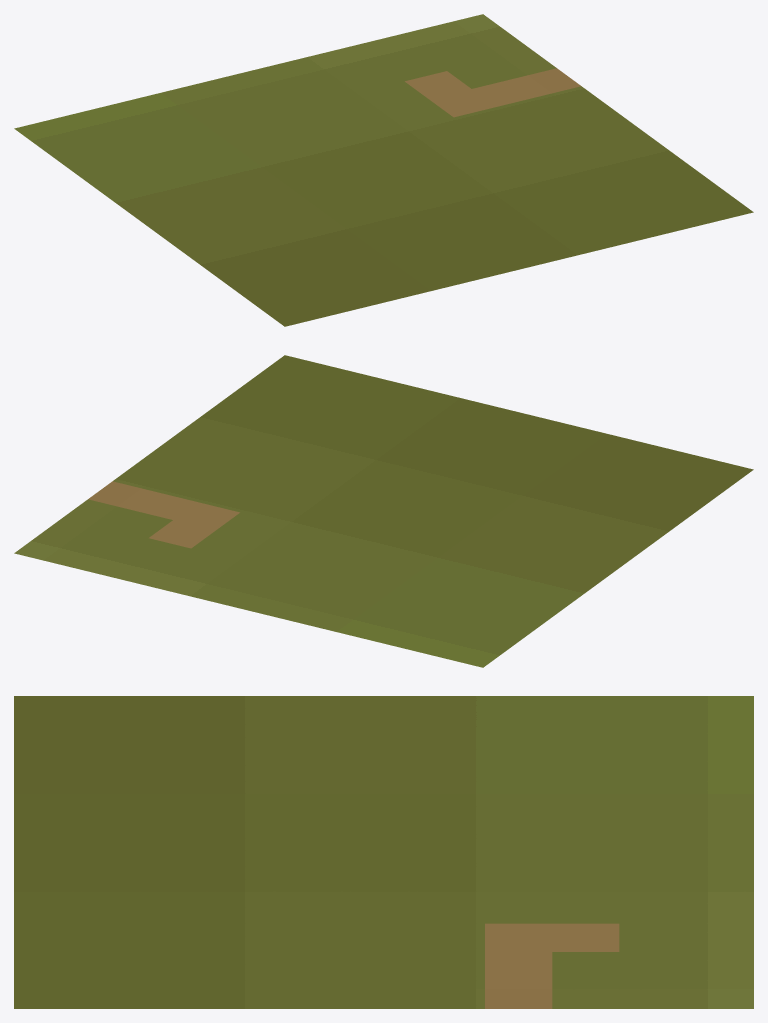
The model's file is PlaceholderFarm.fbx.
3 views of the same model, one above another, from view 1: azimuth 30°, elevation 25°; view 2: azimuth 150°, elevation 25°; view 3: azimuth 270°, elevation 25° (orthographic). The views are drawn at different scales.
Visible parts, largest first — view 1: Plane.002; view 2: Plane.002; view 3: Plane.002.
Part boxes in pixels (x1,y1,x2,y2): Plane.002: (14, 14, 753, 326); Plane.002: (14, 355, 753, 667); Plane.002: (14, 696, 753, 1008).
Bounding box in the file's own units: 1041 × 0.00017 × 1041.
